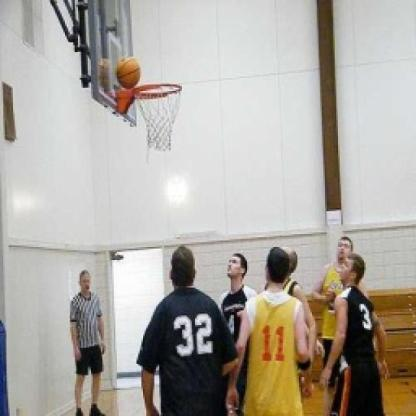basketball: (112, 53, 144, 91)
